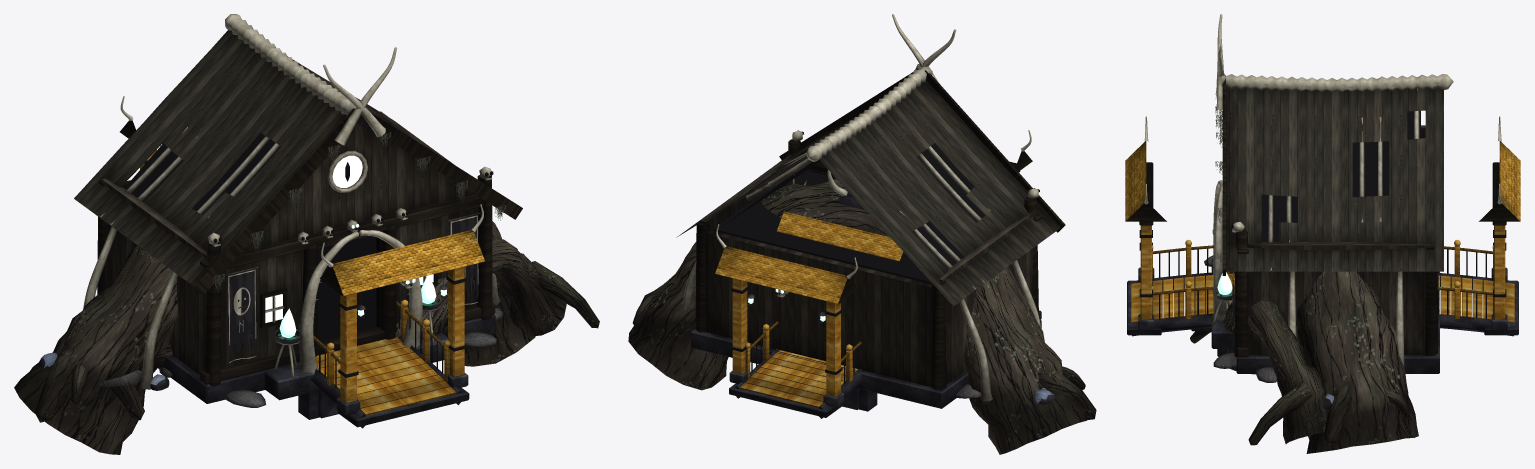
Rendered from kit_helheim.glb.
3 renders of one model, left to right at view 1: azimuth 30°, elevation 25°; view 2: azimuth 150°, elevation 25°; view 3: azimuth 270°, elevation 25°, orthographic. The views are drawn at different scales.
Parts seen in each view (by area): view 1: helheim_hall_facade_mesh, helheim_root_mesh, helheim_gjallarbru_mesh; view 2: helheim_hall_facade_mesh, helheim_root_mesh, helheim_gjallarbru_mesh; view 3: helheim_hall_facade_mesh, helheim_root_mesh, helheim_gjallarbru_mesh.
Part boxes in pixels (bbox=[...]): helheim_hall_facade_mesh: bbox=[74, 14, 522, 407]; helheim_root_mesh: bbox=[14, 221, 599, 454]; helheim_gjallarbru_mesh: bbox=[120, 96, 485, 428]; helheim_hall_facade_mesh: bbox=[676, 14, 1065, 408]; helheim_root_mesh: bbox=[628, 174, 1096, 454]; helheim_gjallarbru_mesh: bbox=[715, 130, 1032, 418]; helheim_hall_facade_mesh: bbox=[1191, 14, 1453, 382]; helheim_root_mesh: bbox=[1190, 271, 1418, 453]; helheim_gjallarbru_mesh: bbox=[1125, 116, 1520, 356].
Size of the model in its own units: 13.74 by 10.08 by 10.3.
Materials: 24 (21 with a texture image).
